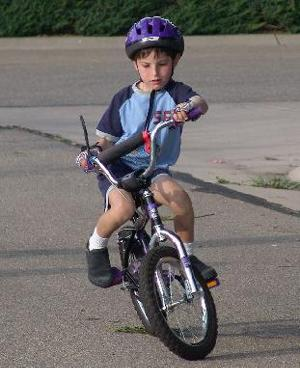person: (80, 16, 210, 294)
